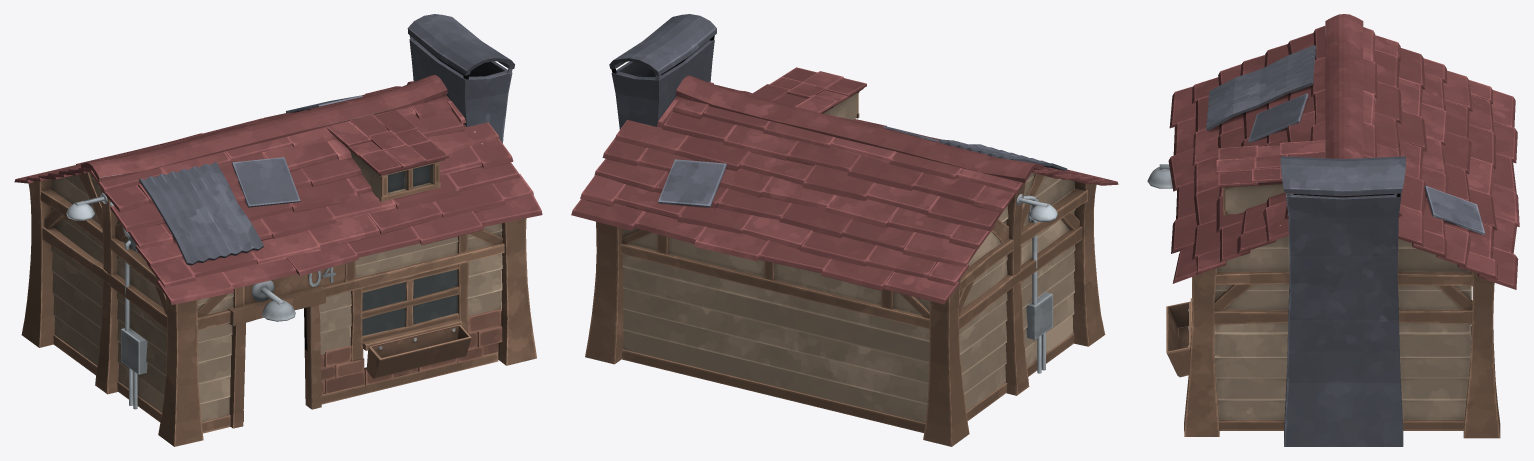
File: House.glb
3 views of the same model, side by side, from view 1: azimuth 30°, elevation 25°; view 2: azimuth 150°, elevation 25°; view 3: azimuth 270°, elevation 25° (orthographic). The views are drawn at different scales.
Parts seen in each view (by area): view 1: Roof Tiles; view 2: Roof Tiles; view 3: Roof Tiles.
Boxes of the visible parts, bbox=[...] form: Roof Tiles: bbox=[14, 14, 542, 446]; Roof Tiles: bbox=[571, 14, 1118, 446]; Roof Tiles: bbox=[1147, 14, 1519, 446].
Size of the model in its own units: 8.12 by 4.95 by 6.06.
Materials: 1 (1 with a texture image).
